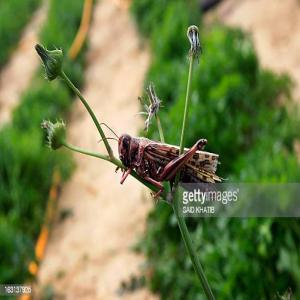locust: (113, 125, 225, 208)
